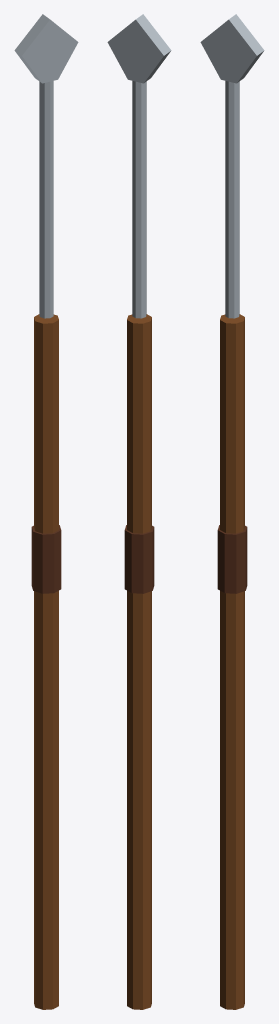
File: lucius-vorenus-spear.glb
3 views of the same model, side by side, from view 1: azimuth 30°, elevation 25°; view 2: azimuth 150°, elevation 25°; view 3: azimuth 330°, elevation 25° (orthographic).
Parts seen in each view (by area): view 1: Pilum_Wood_Shaft, Pilum_Iron_Shank, Pilum_Head, Pilum_Grip; view 2: Pilum_Wood_Shaft, Pilum_Iron_Shank, Pilum_Head, Pilum_Grip; view 3: Pilum_Wood_Shaft, Pilum_Iron_Shank, Pilum_Head, Pilum_Grip.
Part boxes in pixels (x1,y1,x2,y2): Pilum_Wood_Shaft: (34, 314, 58, 1009); Pilum_Iron_Shank: (39, 81, 53, 318); Pilum_Head: (14, 14, 78, 83); Pilum_Grip: (31, 525, 61, 593); Pilum_Wood_Shaft: (127, 314, 151, 1009); Pilum_Iron_Shank: (132, 81, 146, 318); Pilum_Head: (107, 14, 171, 83); Pilum_Grip: (124, 525, 154, 593); Pilum_Wood_Shaft: (220, 314, 244, 1009); Pilum_Iron_Shank: (225, 81, 239, 318); Pilum_Head: (200, 14, 264, 83); Pilum_Grip: (217, 525, 247, 593).
Size of the model in its own units: 10 by 167 by 4.7.
